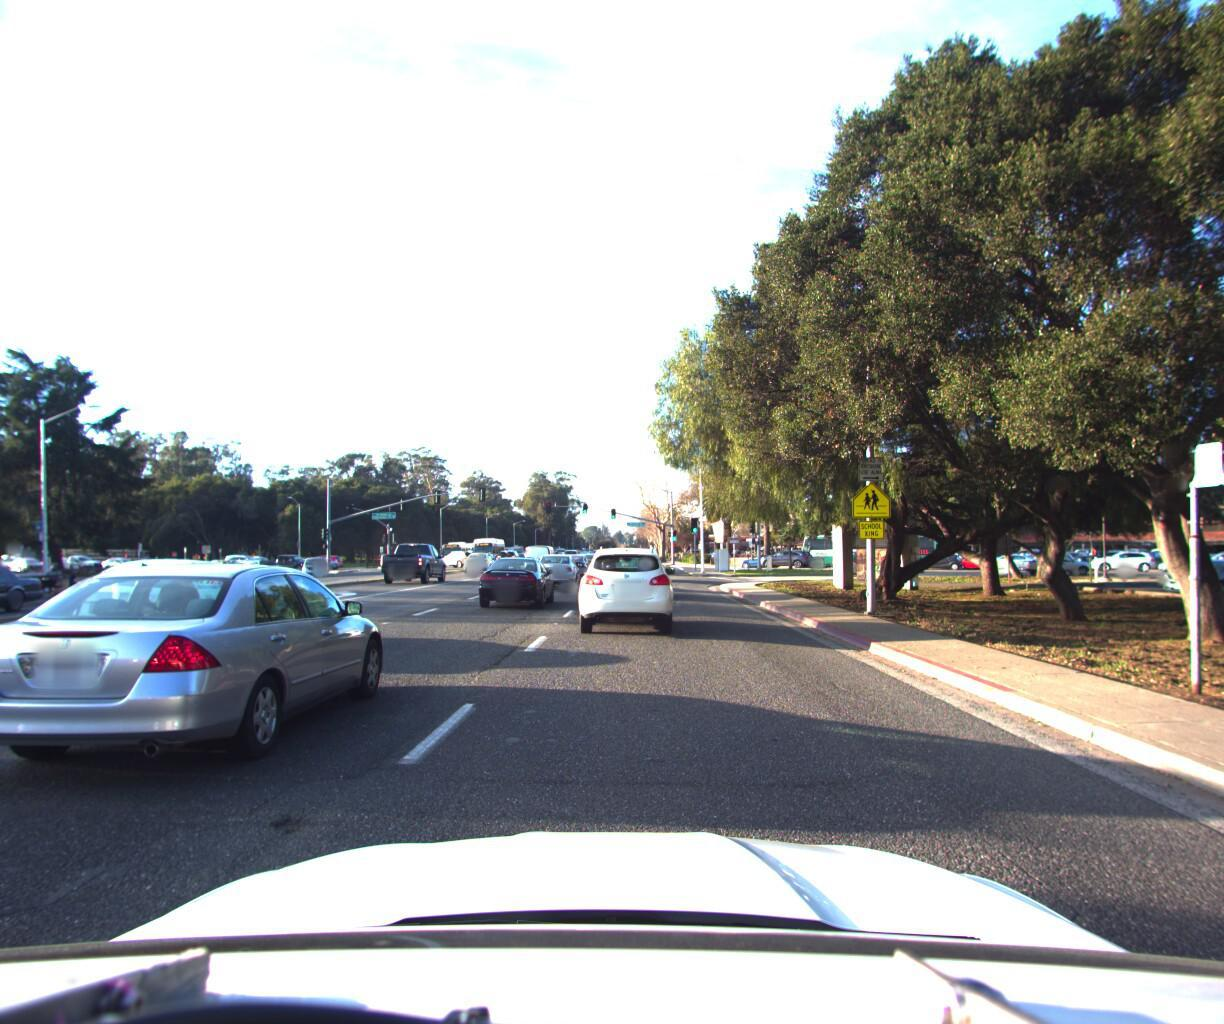bus: (792, 523, 944, 564)
car: (0, 552, 393, 811), (35, 533, 283, 668), (574, 537, 680, 637), (475, 546, 558, 606), (376, 531, 450, 580), (0, 560, 48, 628), (1004, 541, 1090, 568), (533, 544, 585, 586), (1083, 542, 1149, 564), (458, 538, 502, 567), (521, 539, 557, 567), (488, 539, 521, 563), (733, 546, 778, 562), (302, 555, 331, 577), (1204, 545, 1224, 573)
truck: (0, 531, 63, 620)
